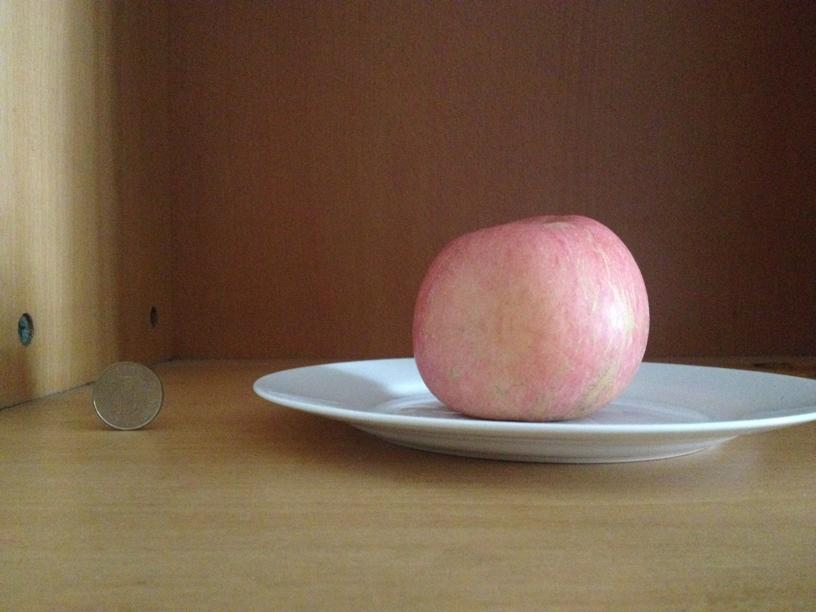apple: (411, 207, 651, 420)
coin: (94, 362, 162, 430)
